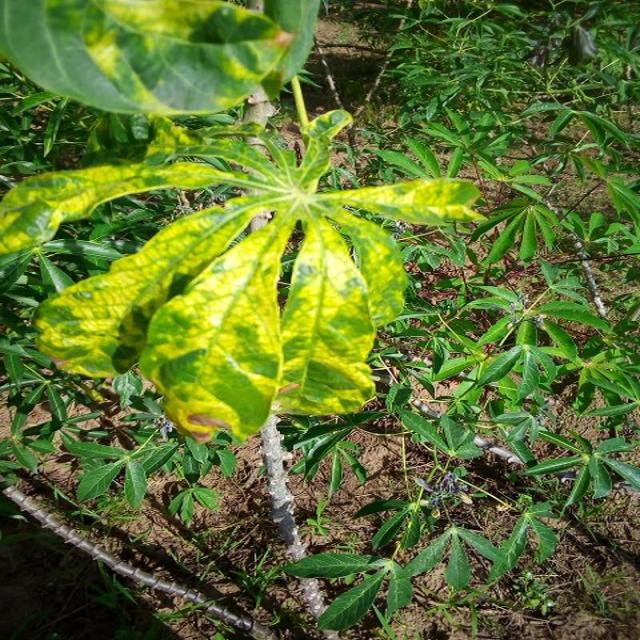cassava leaf: (30, 105, 484, 446), (0, 0, 303, 118)
